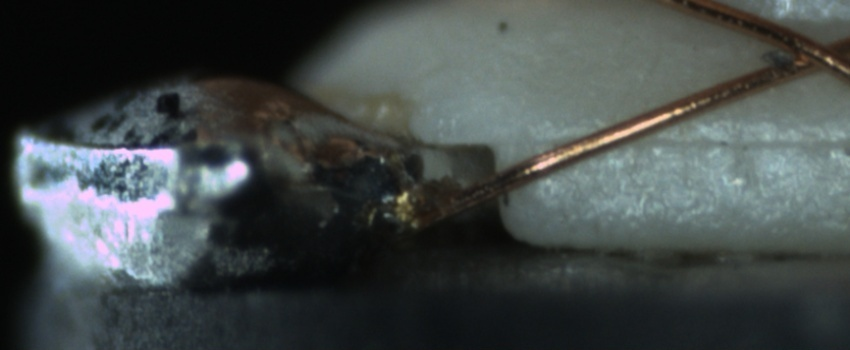CL: (765, 22, 849, 79)
DL: (550, 110, 850, 170)
